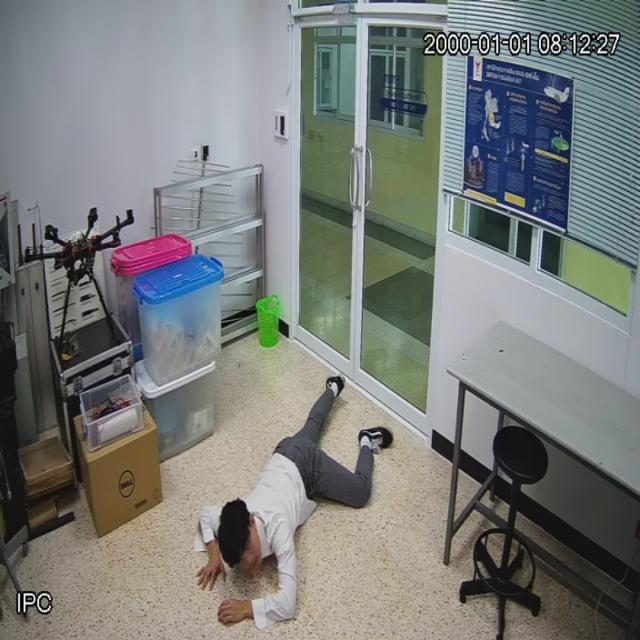fall: (202, 389, 370, 629)
